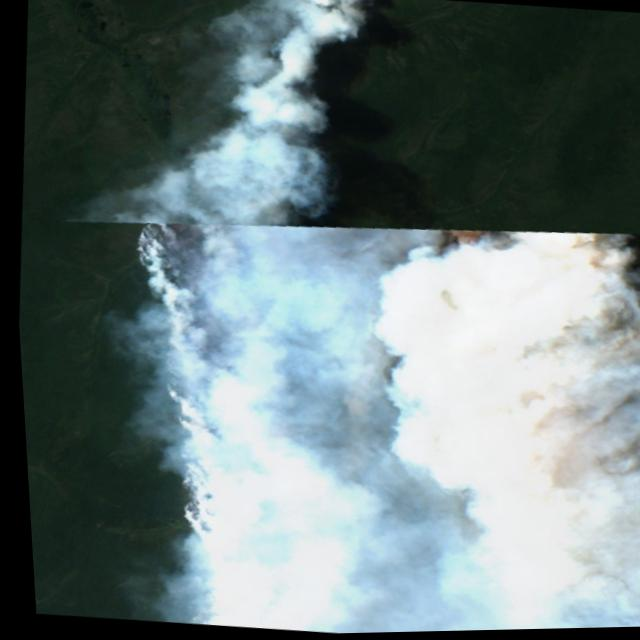fire: (97, 195, 523, 638)
